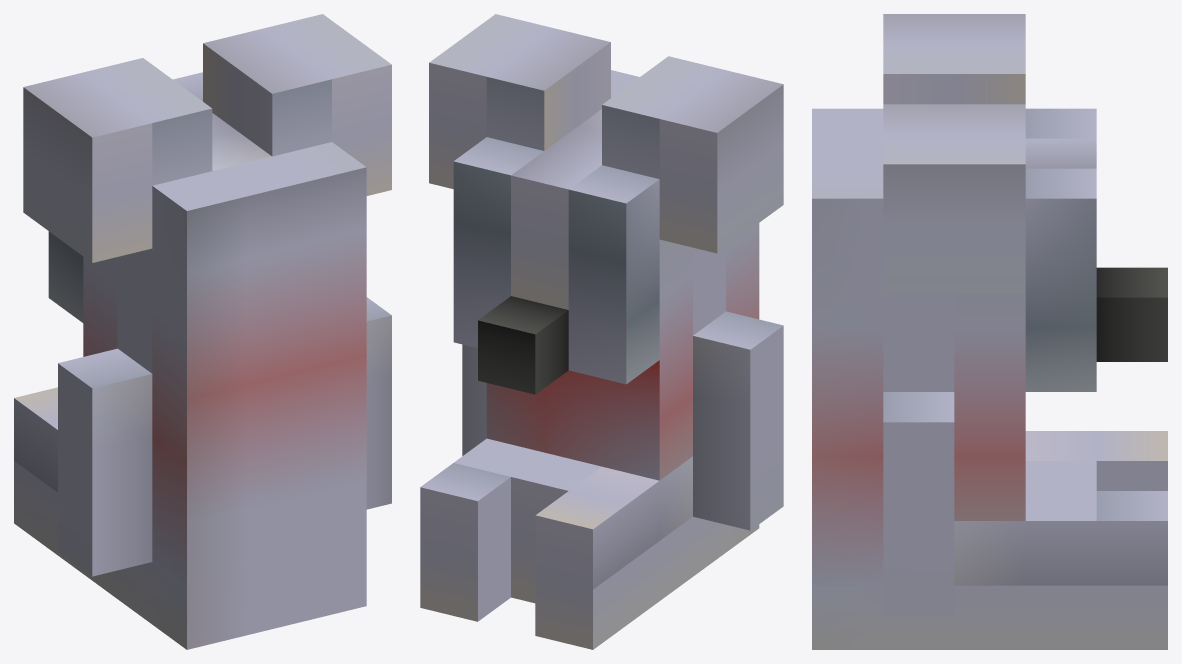
The model's file is PlushPurple_05.fbx.
3 renders of one model, left to right at view 1: azimuth 30°, elevation 25°; view 2: azimuth 150°, elevation 25°; view 3: azimuth 270°, elevation 25°, orthographic. The views are drawn at different scales.
Visible parts, largest first — view 1: PlushPurple_05; view 2: PlushPurple_05; view 3: PlushPurple_05.
Part boxes in pixels (bbox=[...]): PlushPurple_05: bbox=[14, 14, 391, 649]; PlushPurple_05: bbox=[420, 14, 783, 649]; PlushPurple_05: bbox=[812, 14, 1167, 649].
Bounding box in the file's own units: 25 × 25 × 40.
1 material, 1 textured.
